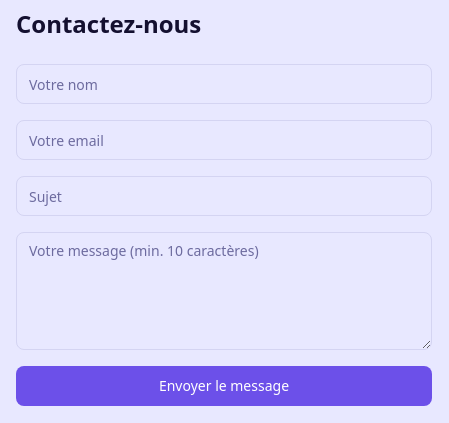
Test: ContactPage › affiche le bouton submit désactivé pendant la soumission
The width and height of the screenshot is (449, 423).
Type "Jean" into the field with placeholder "Votre nom" at (224, 84), box left=16, top=64, right=432, bottom=104
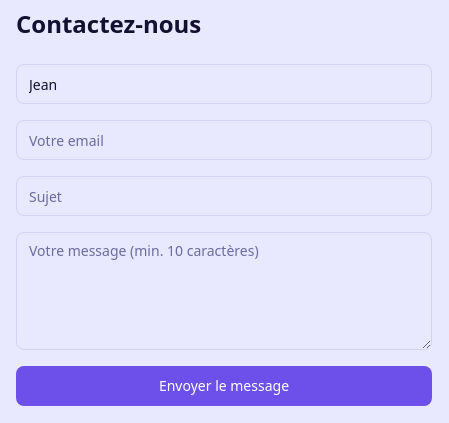
Type "jean@test.com" into the field with placeholder "Votre email" at (224, 140), box left=16, top=120, right=432, bottom=160
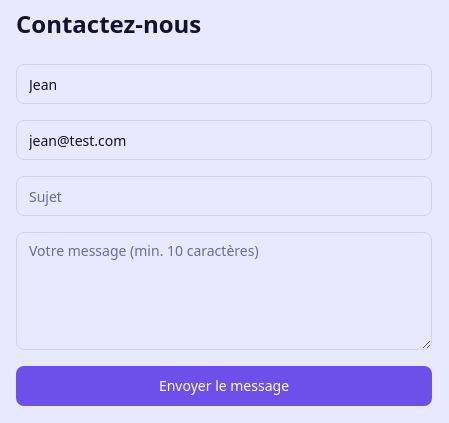
Type "Question" into the field with placeholder "Sujet" at (224, 196), box left=16, top=176, right=432, bottom=216
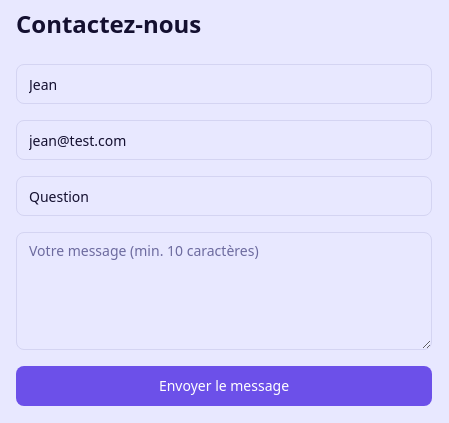
Type "Bonjour, ceci est un message de test." into the text box with placeholder "Votre message (min. 10 caractères)" at (224, 291), box left=16, top=232, right=432, bottom=350
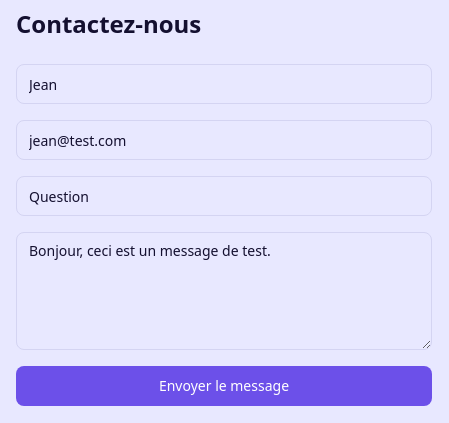
Click the button "Envoyer le message" at (224, 386), box left=16, top=366, right=432, bottom=406
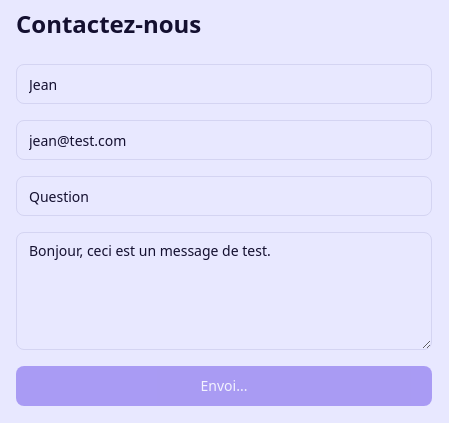
Result: the button "Envoi..." is disabled at left=16, top=366, right=432, bottom=406
